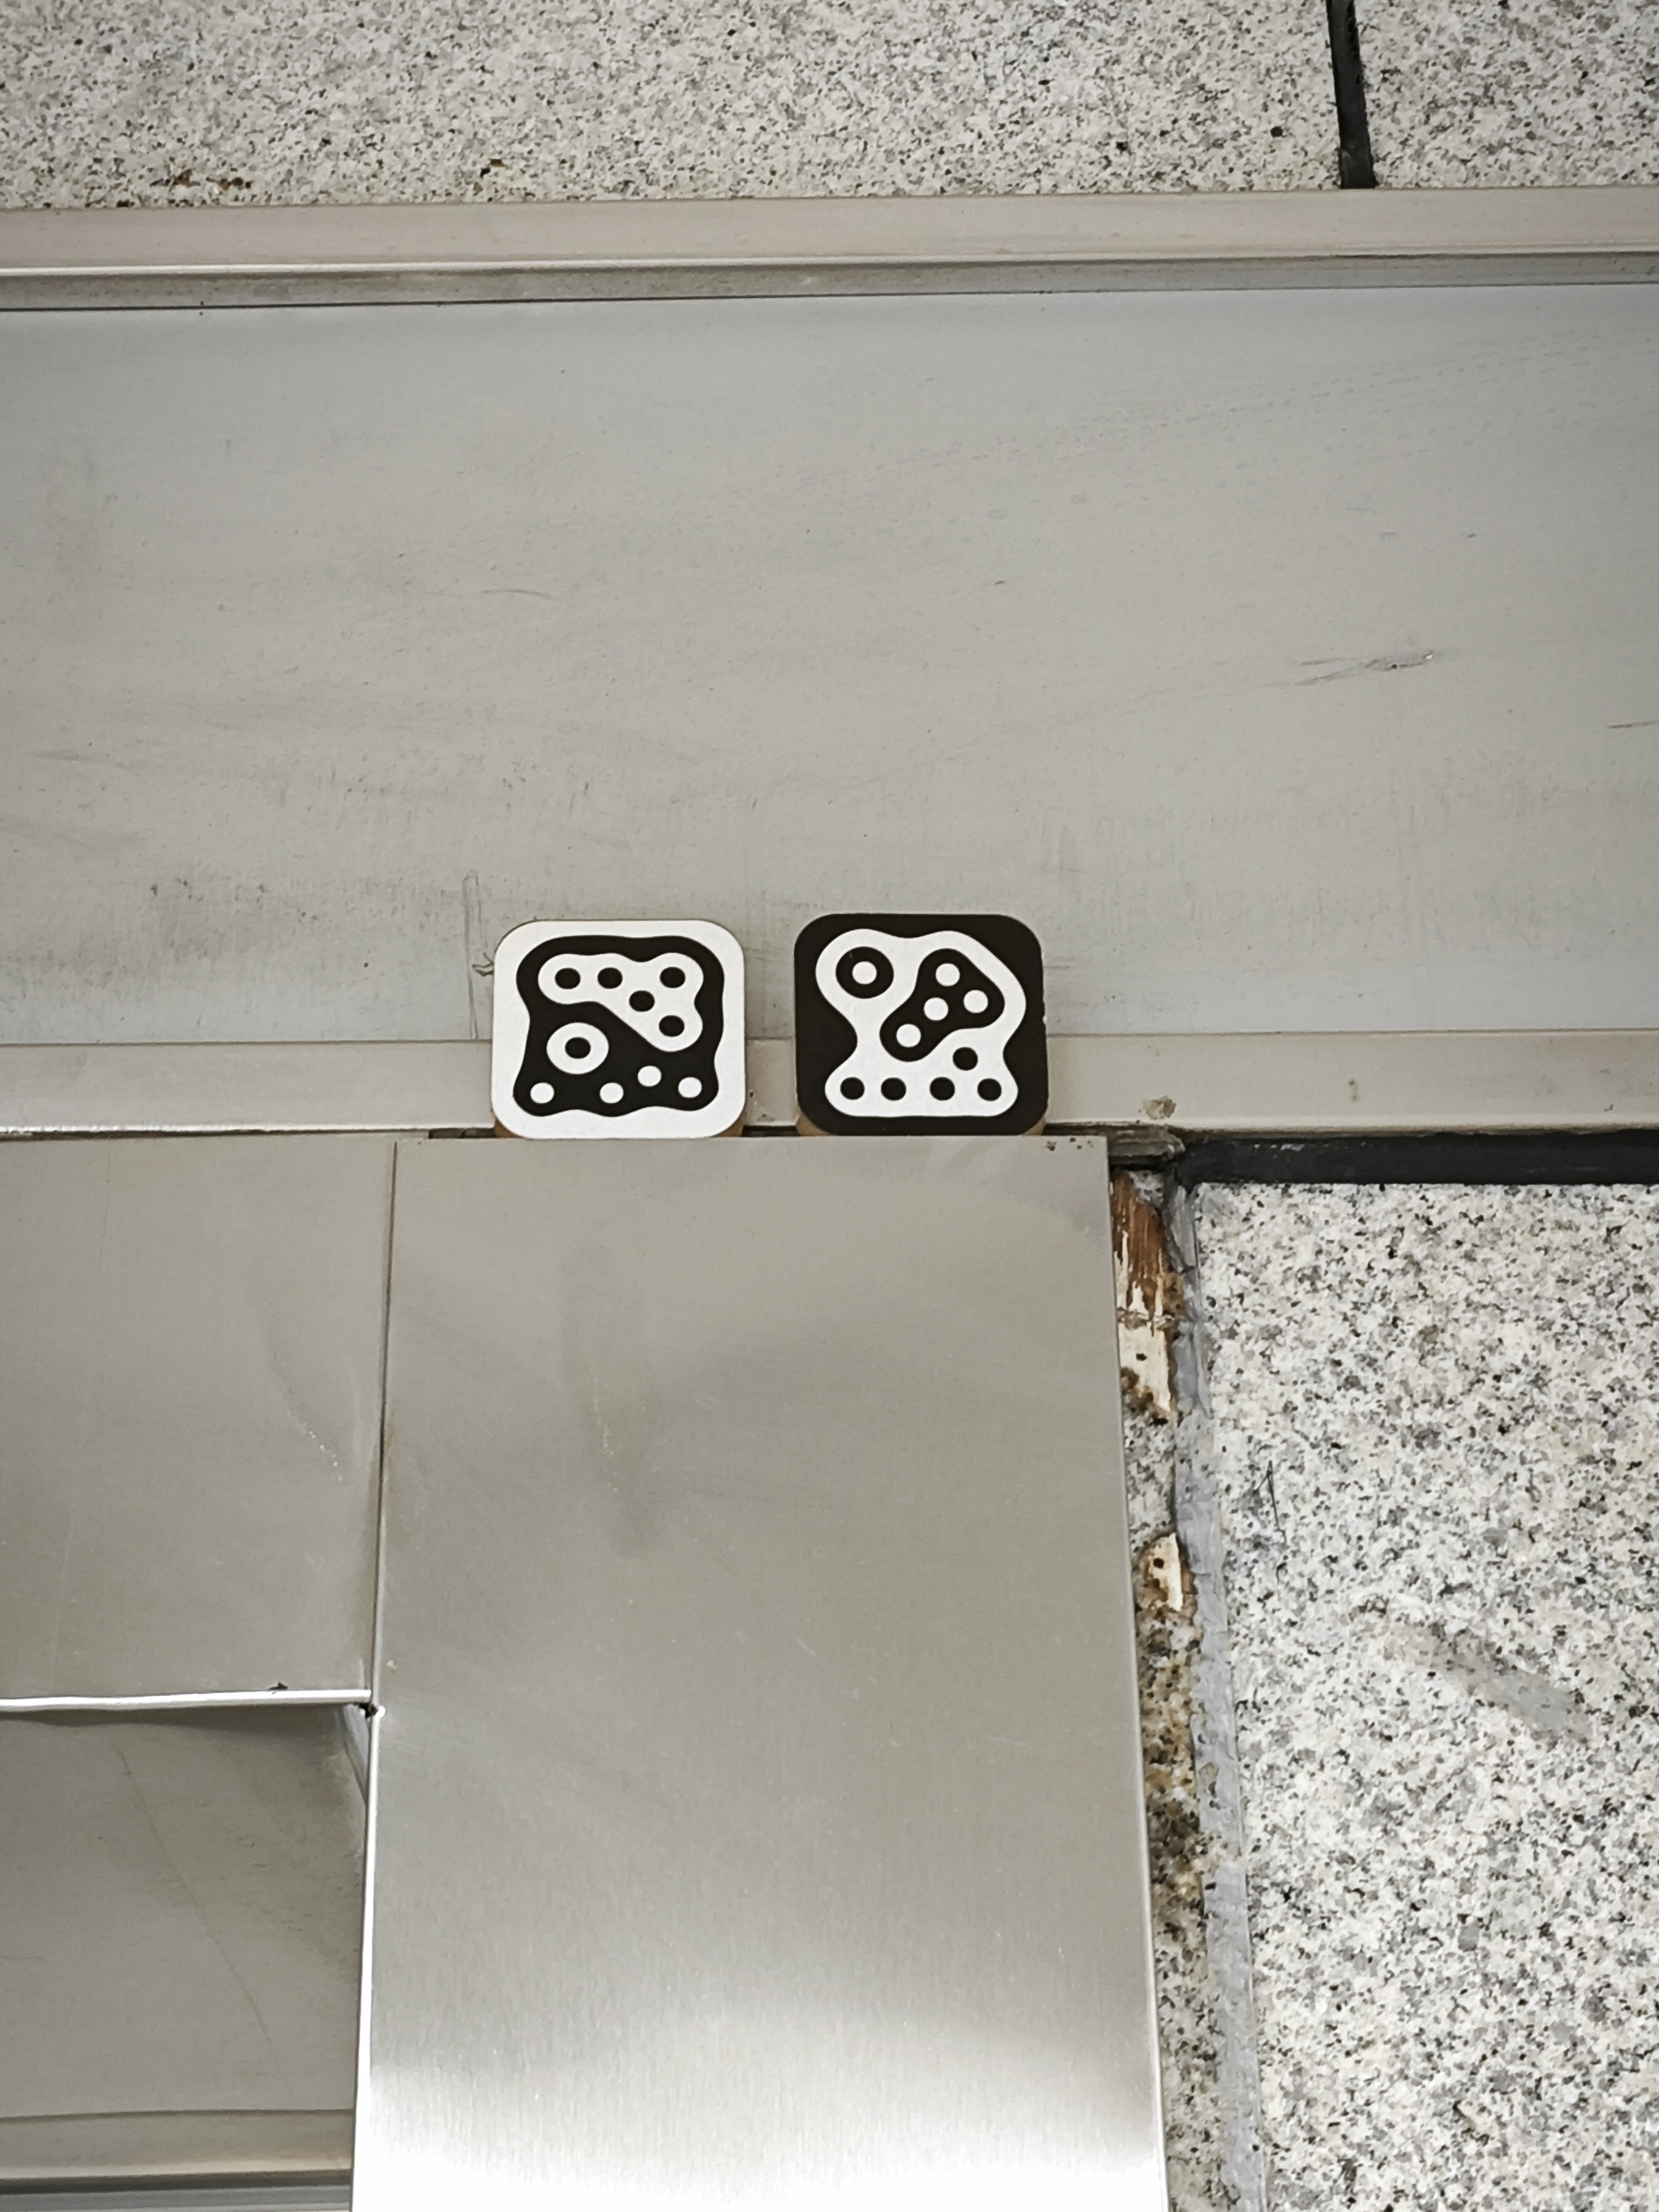mark1: (509, 927, 730, 1118)
mark2: (812, 920, 1033, 1129)
